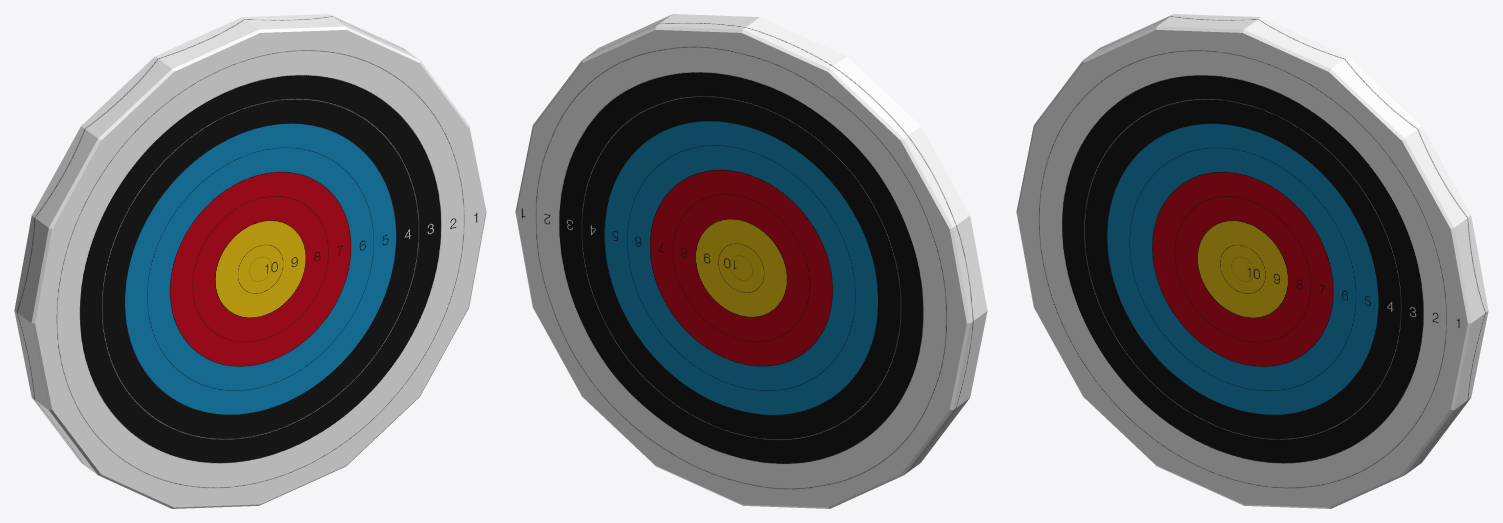
Rendered from target.obj.
3 renders of one model, left to right at view 1: azimuth 30°, elevation 25°; view 2: azimuth 150°, elevation 25°; view 3: azimuth 330°, elevation 25°, orthographic.
Visible parts, largest first — view 1: target; view 2: target; view 3: target.
Boxes of the visible parts, x1,y1,x2,y2 form: target: [14, 14, 486, 508]; target: [515, 14, 987, 508]; target: [1016, 14, 1488, 508].
Size of the model in its own units: 60 by 60 by 4.5.
Materials: 1 (1 with a texture image).
